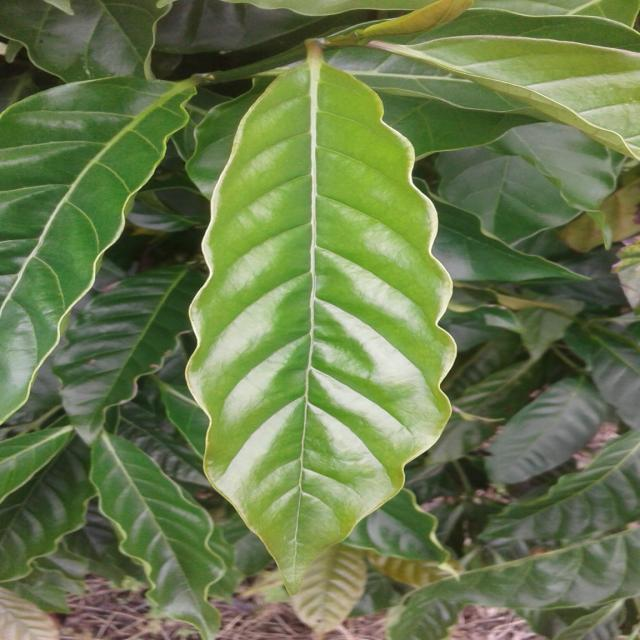Sanas: (167, 61, 457, 578)
